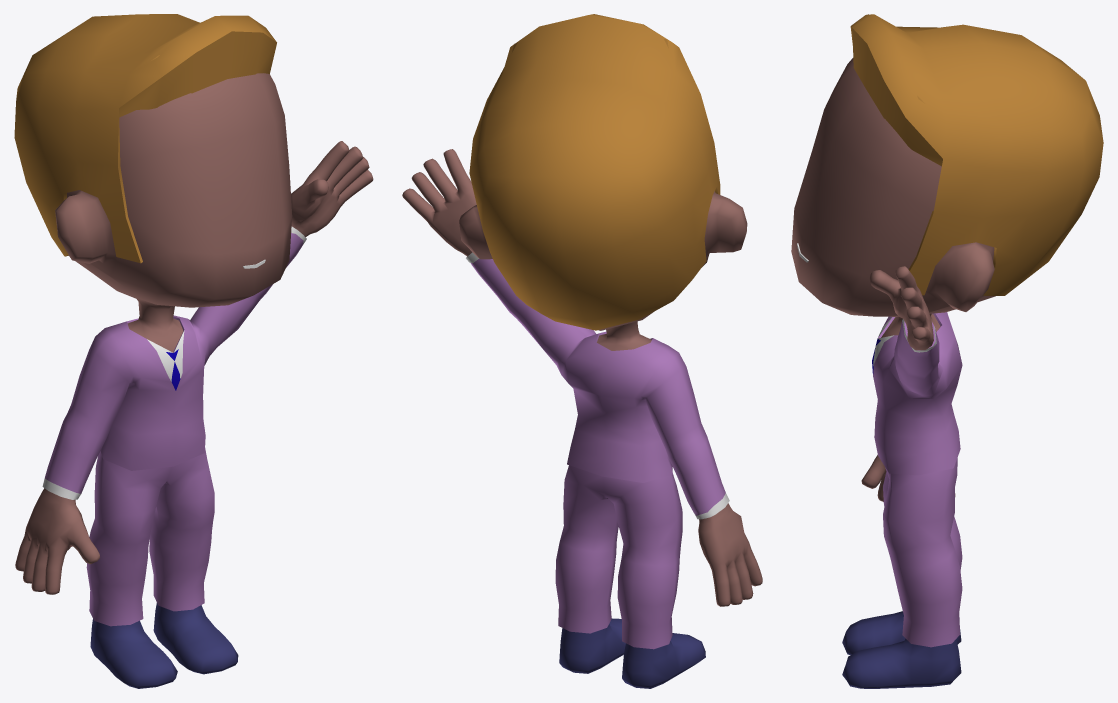
Rendered from Personajes_juzgado.fbx.
3 views of the same model, side by side, from view 1: azimuth 30°, elevation 25°; view 2: azimuth 150°, elevation 25°; view 3: azimuth 270°, elevation 25° (orthographic). The views are drawn at different scales.
Parts seen in each view (by area): view 1: body.002, hair2, shirt3.002, pants1.002, socks.002; view 2: hair2, shirt3.002, pants1.002, body.002, socks.002; view 3: hair2, body.002, pants1.002, shirt3.002, socks.002.
Boxes of the visible parts, bbox=[...] form: body.002: bbox=[15, 73, 373, 594]; hair2: bbox=[14, 14, 276, 263]; shirt3.002: bbox=[42, 226, 306, 499]; pants1.002: bbox=[86, 448, 214, 626]; socks.002: bbox=[90, 603, 238, 688]; hair2: bbox=[469, 14, 720, 330]; shirt3.002: bbox=[466, 252, 729, 519]; pants1.002: bbox=[555, 465, 682, 649]; body.002: bbox=[402, 149, 762, 606]; socks.002: bbox=[559, 618, 705, 688]; hair2: bbox=[850, 14, 1103, 295]; body.002: bbox=[791, 58, 995, 501]; pants1.002: bbox=[883, 458, 962, 647]; shirt3.002: bbox=[872, 312, 962, 475]; socks.002: bbox=[842, 611, 961, 688].
Size of the model in its own units: 101 by 177 by 76.54.
